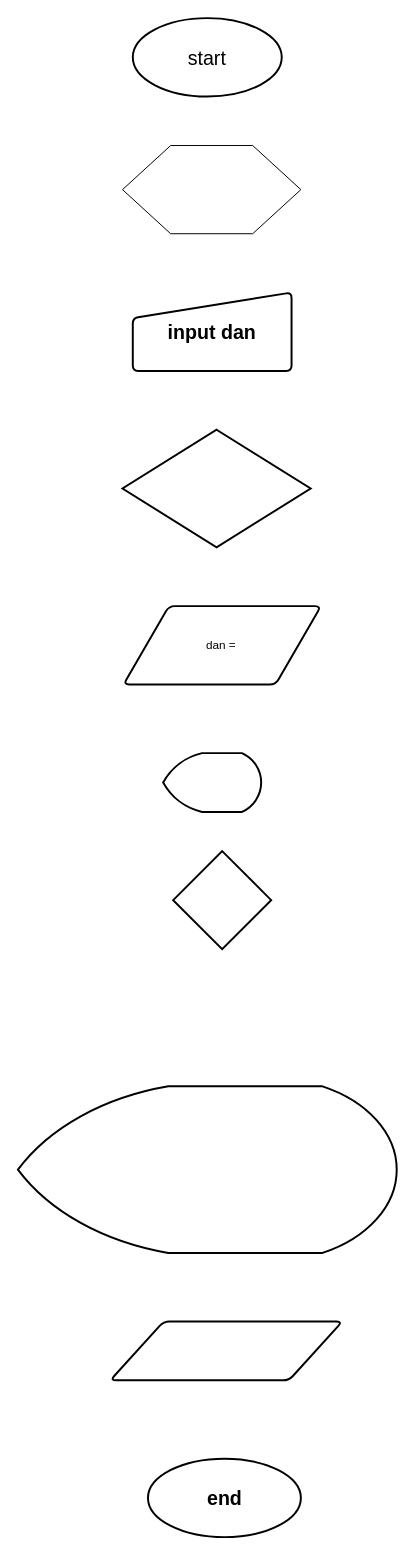
This 415x1554 diagram has some shape labels left out. Each missing label, with the centre of its shape:
"num = num+1" goes at (226,1350).
"press '확인'?" goes at (216,488).
